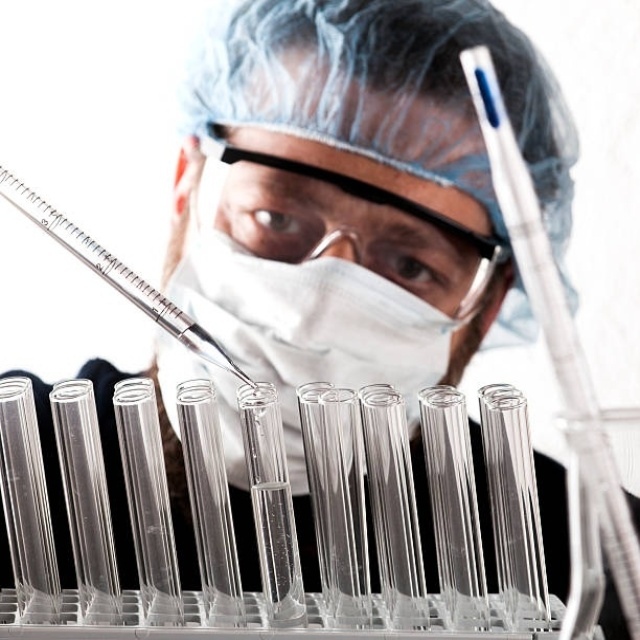Gafas: (196, 125, 512, 312)
Mascara: (153, 212, 475, 497)
